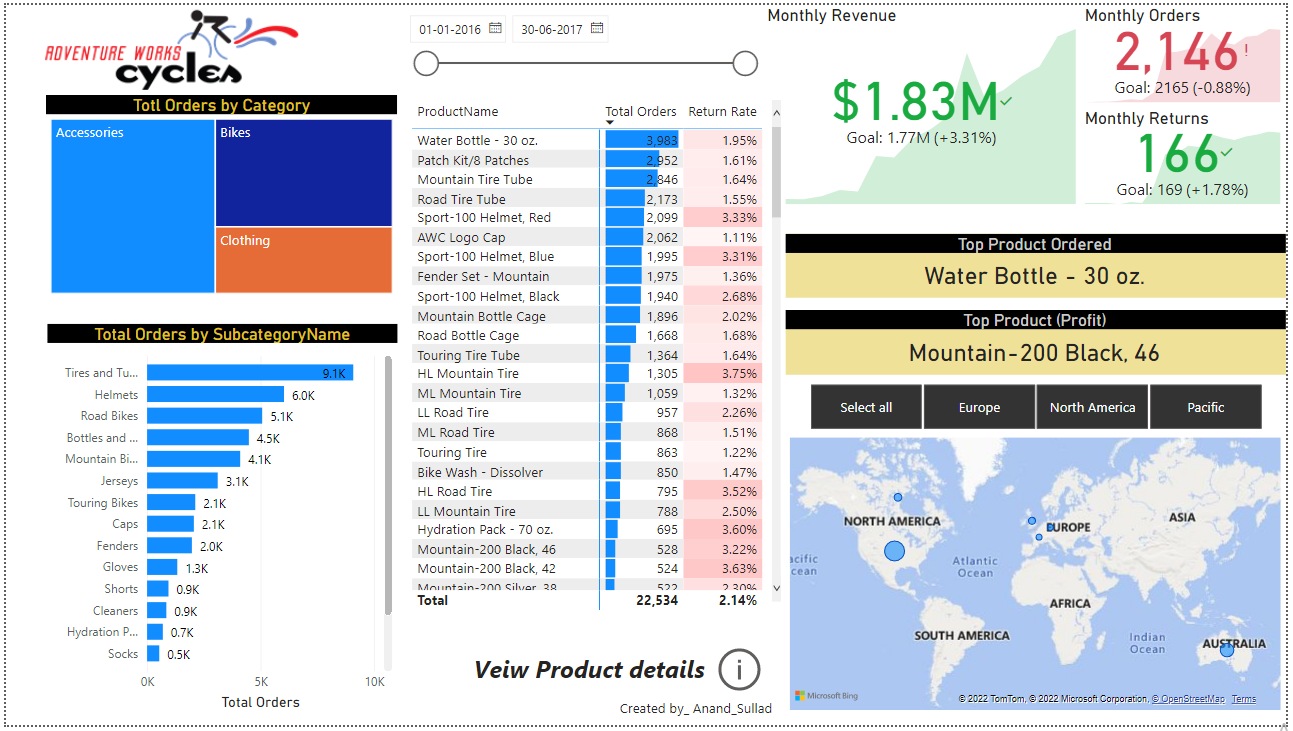

The dashboard page shown, as its layout file describes it:
{"tool":"powerbi","page":{"name":"Exec Summary","canvas":[1280,720],"ordinal":0},"visuals":[{"type":"barChart","title":"Total Orders by SubcategoryName","fields":{"Y":["AW_Sales.Total Orders"],"Category":["AW_Product_Subcategory_Lookup.SubcategoryName"]},"box":[41.1,318.9,350,391.1],"z":0},{"type":"card","title":"Top Product Ordered","fields":{"Values":["Min(AW_Product_Lookup.ProductName)"]},"box":[777.9,229.1,502.1,63.6],"z":1000},{"type":"image","box":[22.2,0,290,90],"z":2000},{"type":"kpi","title":"Monthly Revenue","fields":{"Indicator":["AW_Sales.Total Revenue"],"TrendLine":["AW_Calendar_Lookup.Start of Month"],"Goal":["AW_Sales.Prev Month Revenue"]},"box":[755.7,0,318.6,204.3],"z":3000},{"type":"treemap","title":"Totl Orders by Category","fields":{"Group":["AW_Product_Category_Lookup.CategoryName","AW_Product_Subcategory_Lookup.SubcategoryName"],"Values":["AW_Sales.Total Orders"]},"box":[40,90,351.1,203.3],"z":4000},{"type":"card","title":"Top Product (Profit)","fields":{"Values":["Min(AW_Product_Lookup.ProductName)"]},"box":[777.9,305.5,502.1,65.1],"z":5000},{"type":"pivotTable","fields":{"Values":["AW_Sales.Total Orders","AW_Returns.Return Rate"],"Rows":["AW_Product_Category_Lookup.CategoryName","AW_Product_Subcategory_Lookup.SubcategoryName","AW_Product_Lookup.ProductName"]},"box":[401.4,90,378.6,520],"z":6000},{"type":"slicer","fields":{"Values":["AW_Calendar_Lookup.Date"]},"box":[391.4,0,368.6,90],"z":7000},{"type":"kpi","title":"Monthly Orders","fields":{"TrendLine":["AW_Calendar_Lookup.Start of Month"],"Indicator":["AW_Sales.Total Orders"],"Goal":["AW_Sales.Prev Month Orders"]},"box":[1074.3,0,205.7,102.9],"z":8000},{"type":"kpi","title":"Monthly Returns","fields":{"TrendLine":["AW_Calendar_Lookup.Start of Month"],"Indicator":["AW_Returns.Total Returns"],"Goal":["AW_Returns.Prev Month Returns"]},"box":[1074.3,102.9,205.7,101.4],"z":9000},{"type":"map","fields":{"Category":["AW_Territories_Lookup.Country"],"Size":["AW_Sales.Total Orders"]},"box":[778.6,427.1,501.4,282.9],"z":10000},{"type":"slicer","fields":{"Values":["AW_Territories_Lookup.Continent"]},"box":[779.3,372,500.7,58],"z":11000},{"type":"textbox","box":[462.9,642.9,292.9,45.7],"z":12000},{"type":"actionButton","box":[705.7,632.9,54.3,64.3],"z":13000}]}

Visuals, with their boxes in screenshot pixels (x1, y1, x2, y2), scaled from the page's 1280x720 canvas onto the 1293x731 screenshot:
"Total Orders by SubcategoryName" barChart: locate(42, 324, 395, 721)
"Top Product Ordered" card: locate(786, 233, 1292, 297)
image: locate(22, 0, 315, 91)
"Monthly Revenue" kpi: locate(763, 0, 1085, 207)
"Totl Orders by Category" treemap: locate(40, 91, 395, 298)
"Top Product (Profit)" card: locate(786, 310, 1292, 376)
pivotTable - AW_Sales.Total Orders x AW_Returns.Return Rate: locate(405, 91, 788, 619)
slicer - AW_Calendar_Lookup.Date: locate(395, 0, 768, 91)
"Monthly Orders" kpi: locate(1085, 0, 1292, 104)
"Monthly Returns" kpi: locate(1085, 104, 1292, 207)
map - AW_Territories_Lookup.Country x AW_Sales.Total Orders: locate(787, 434, 1292, 721)
slicer - AW_Territories_Lookup.Continent: locate(787, 378, 1292, 437)
textbox: locate(468, 653, 763, 699)
actionButton: locate(713, 643, 768, 708)
